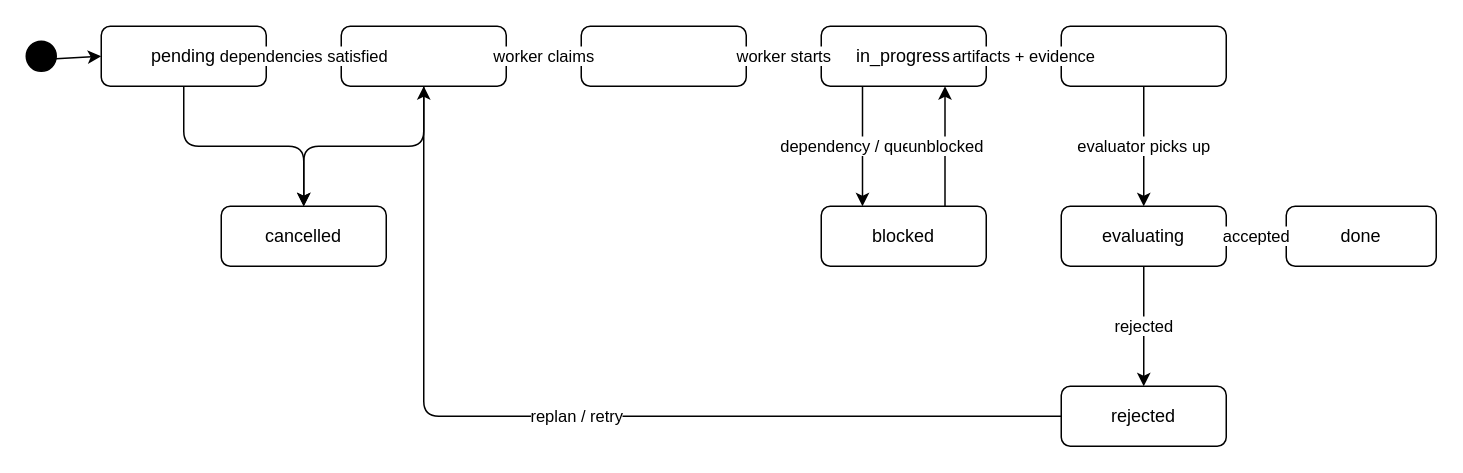
The diagram is 1463 pixels wide and 473 high, and some of its shapes have lost their labels. Each missing label, with the box of its shape:
claimed: (580, 25, 746, 86)
ready: (340, 25, 506, 86)
submitted: (1060, 25, 1226, 86)
